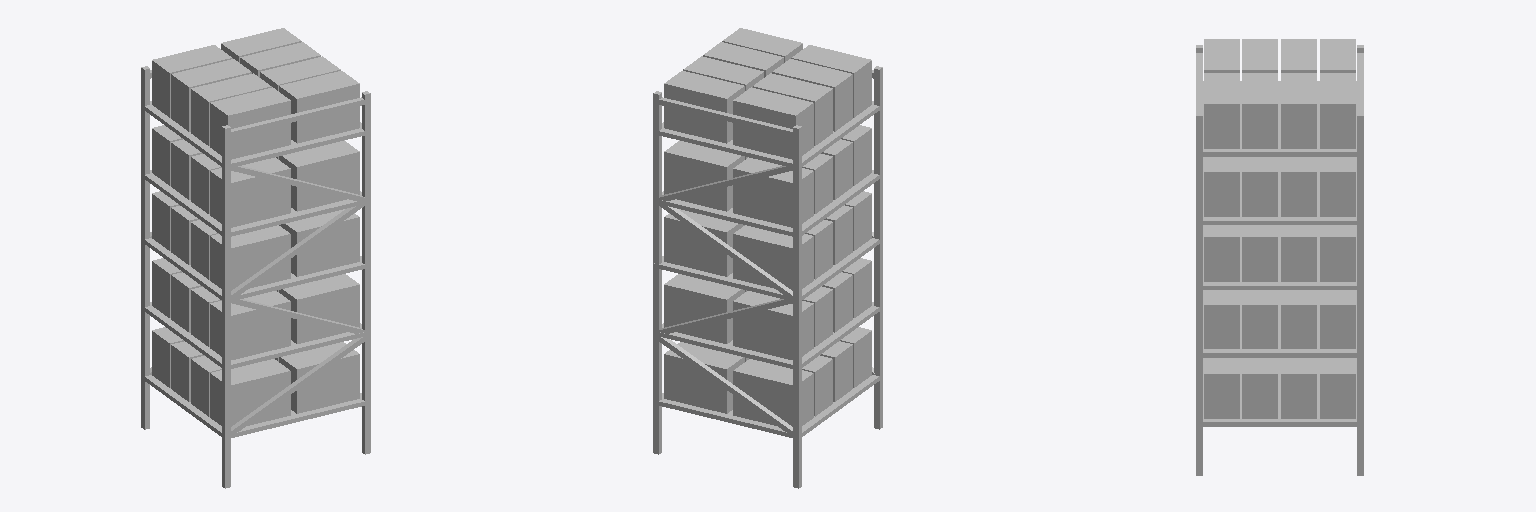
The model's file is container.obj.
3 renders of one model, left to right at view 1: azimuth 30°, elevation 25°; view 2: azimuth 150°, elevation 25°; view 3: azimuth 270°, elevation 25°, orthographic.
Visible parts, largest first — view 1: 立方体.3, 立方体; view 2: 立方体.3, 立方体; view 3: 立方体.3, 立方体.
Boxes of the visible parts, x1,y1,x2,y2 form: 立方体.3: [152, 28, 359, 426]; 立方体: [141, 66, 370, 488]; 立方体.3: [664, 28, 871, 426]; 立方体: [653, 66, 882, 488]; 立方体.3: [1204, 39, 1355, 418]; 立方体: [1196, 45, 1363, 475].
Size of the model in its own units: 58.91 by 142 by 58.86.